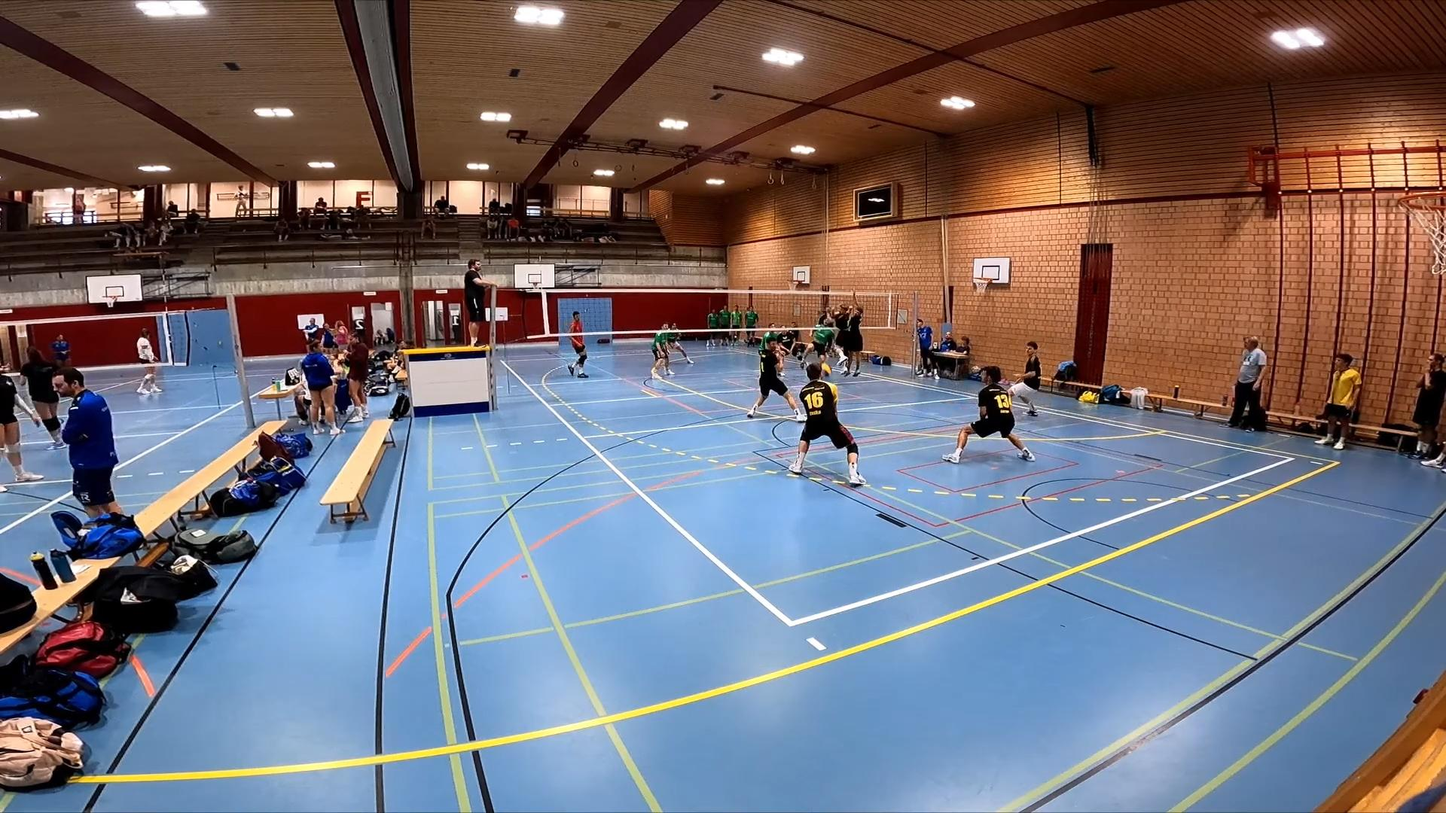difesa: (790, 360, 864, 486)
muro: (844, 295, 865, 382)
